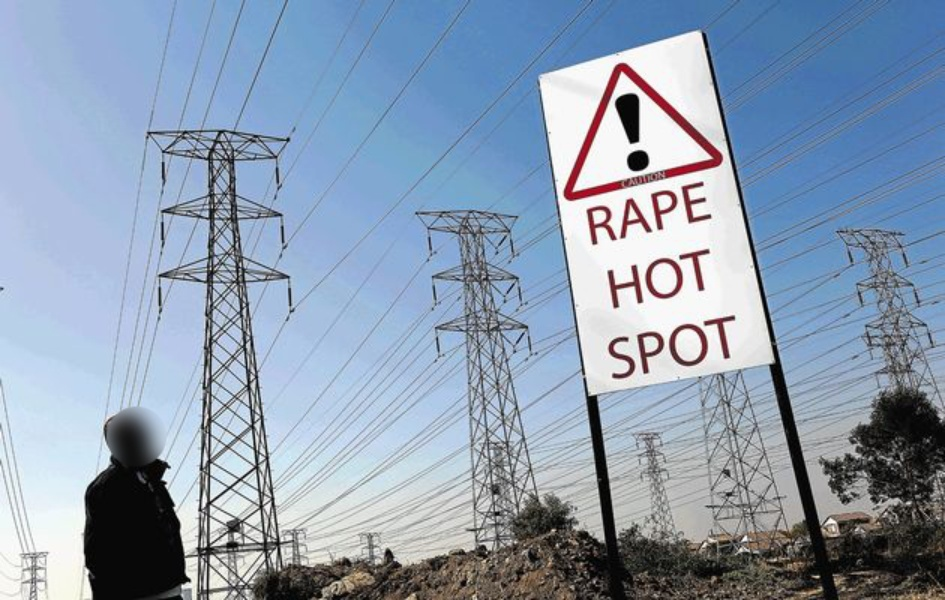text: (625, 88, 640, 173), (611, 88, 624, 173), (609, 313, 624, 382), (625, 313, 640, 382), (641, 313, 656, 382), (657, 313, 672, 382), (673, 313, 688, 382), (689, 313, 704, 382), (705, 313, 720, 382), (721, 313, 736, 382), (641, 88, 653, 173), (593, 181, 608, 246), (609, 181, 624, 246), (625, 181, 640, 246), (641, 181, 656, 246), (657, 181, 672, 246), (673, 181, 688, 246), (689, 181, 704, 246), (609, 246, 624, 310), (625, 246, 640, 310), (641, 246, 656, 310), (657, 246, 672, 310), (673, 246, 688, 310), (689, 246, 704, 310), (705, 181, 713, 246), (601, 313, 608, 382), (705, 246, 712, 310), (586, 181, 592, 246), (625, 169, 640, 191), (641, 169, 656, 191), (657, 169, 667, 191), (619, 169, 624, 191), (607, 246, 608, 310)
